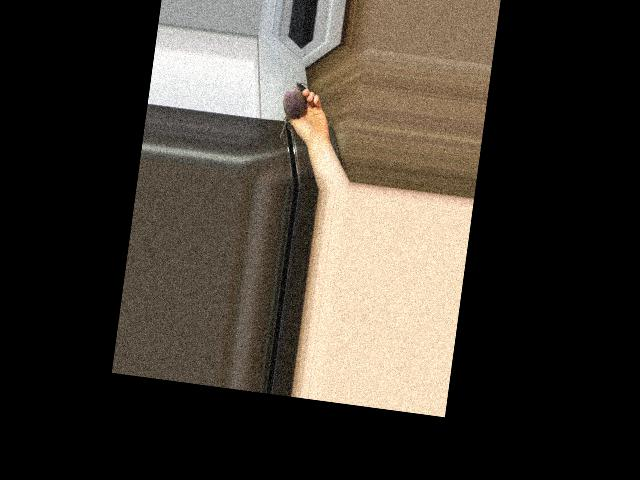beet: (278, 80, 308, 140)
